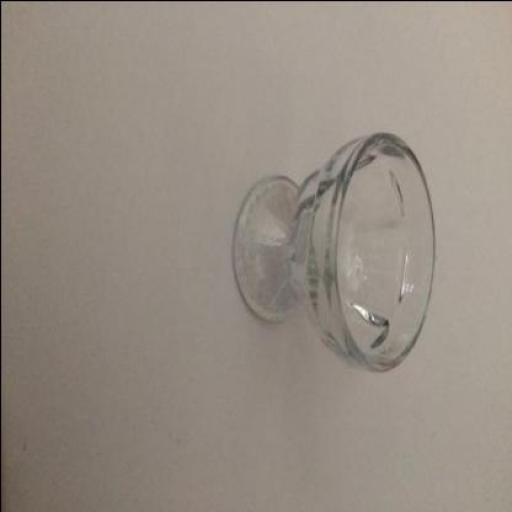glass: (234, 130, 436, 370)
